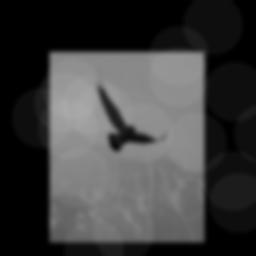Crow: (94, 71, 169, 151)
